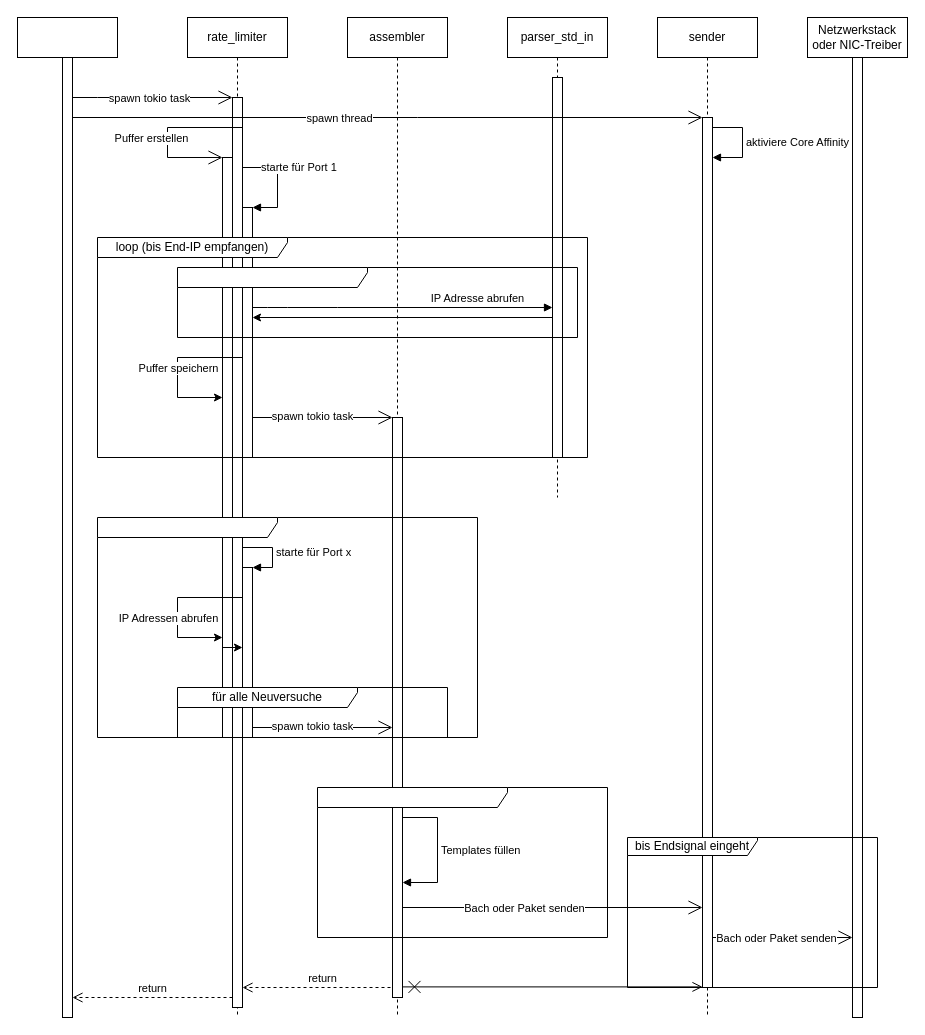
Some shapes in this 925 by 1035 pixel diagram are drawn without their labels. Each missing label, with the box of its shape:
für alle IP Adressen im Puffer: (316, 786, 608, 938)
für alle weiteren Ziel Ports: (96, 516, 478, 738)
loop (bis Puffer voll): (176, 266, 578, 338)
scan_job: (16, 16, 118, 1018)
